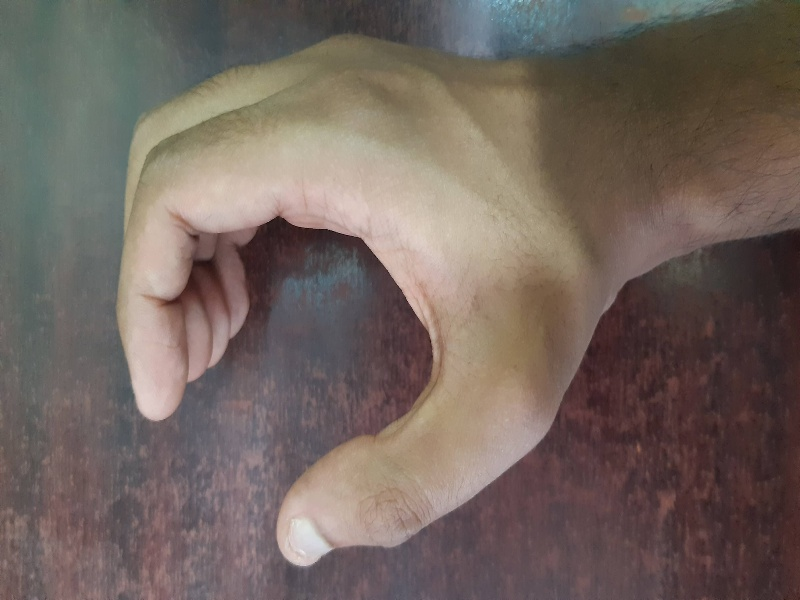one: (89, 20, 584, 578)
